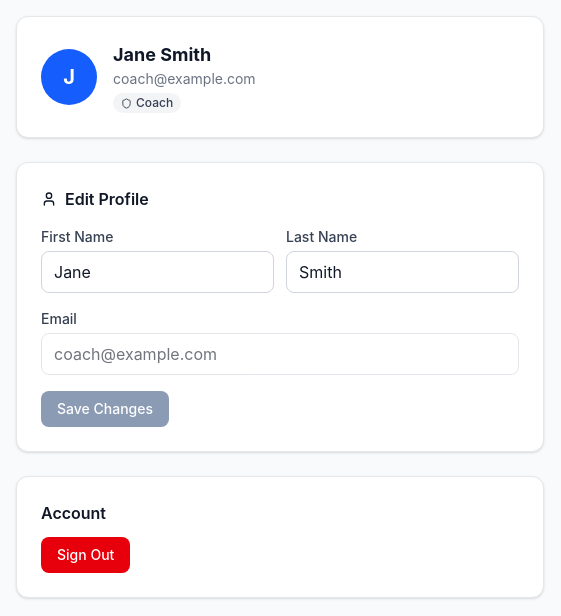
ProfilePage — save button disabled state › save button is enabled (not silently blocked) when last name is cleared
The width and height of the screenshot is (561, 616).
Step 1. Clear the field labelled "Last Name" → point(402, 272), box [286, 251, 519, 293]
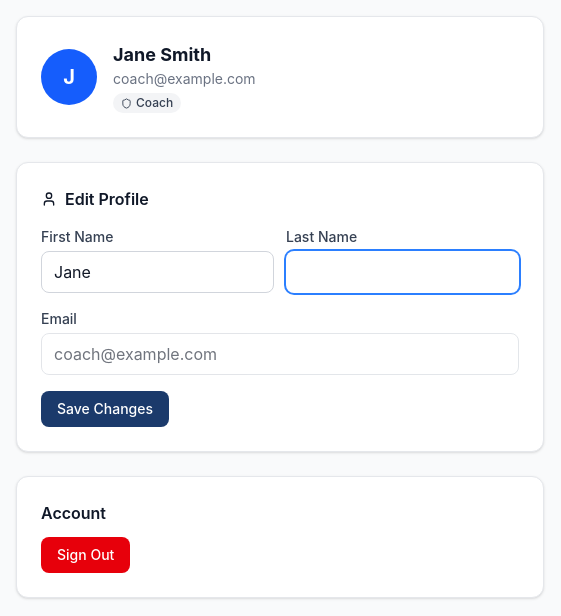
Now the button "Save Changes" is enabled, box [41, 391, 169, 427]
